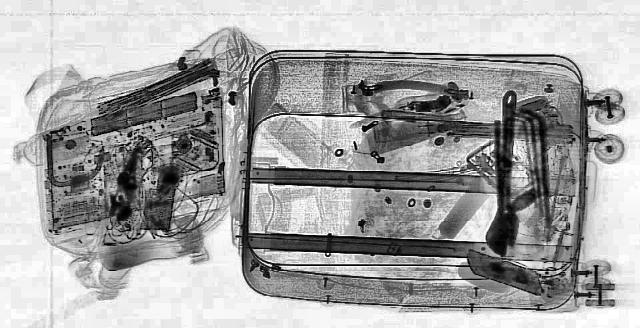Wrench: (482, 90, 524, 258)
